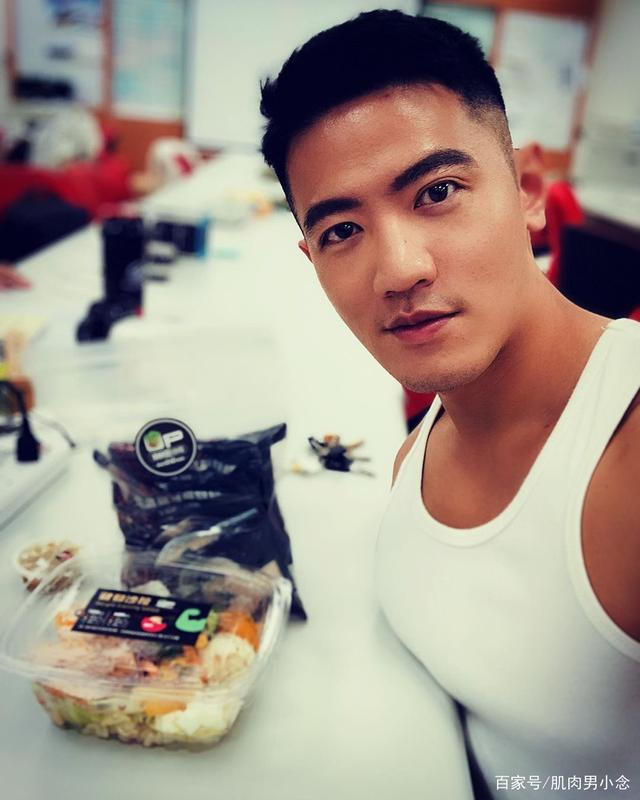person: (222, 36, 640, 722)
